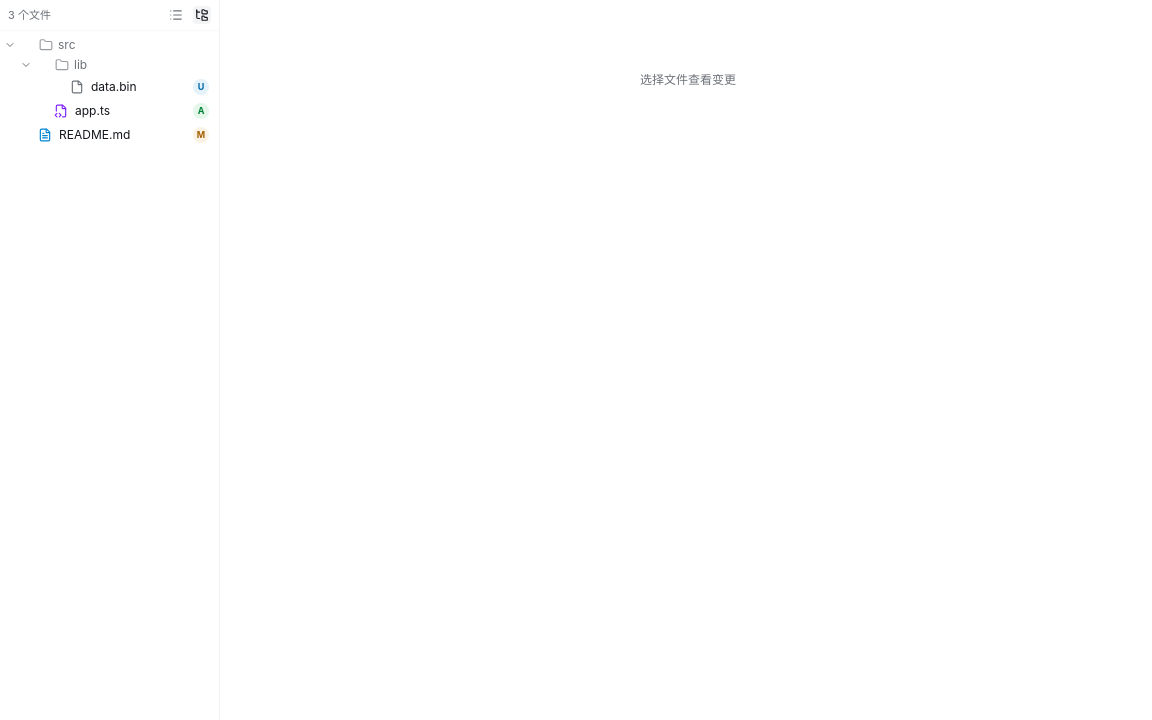
Test: DiffPanel › does not let an older diff response overwrite the latest selection
Click the text "README.md" at (95, 135), box [59,127,130,143]
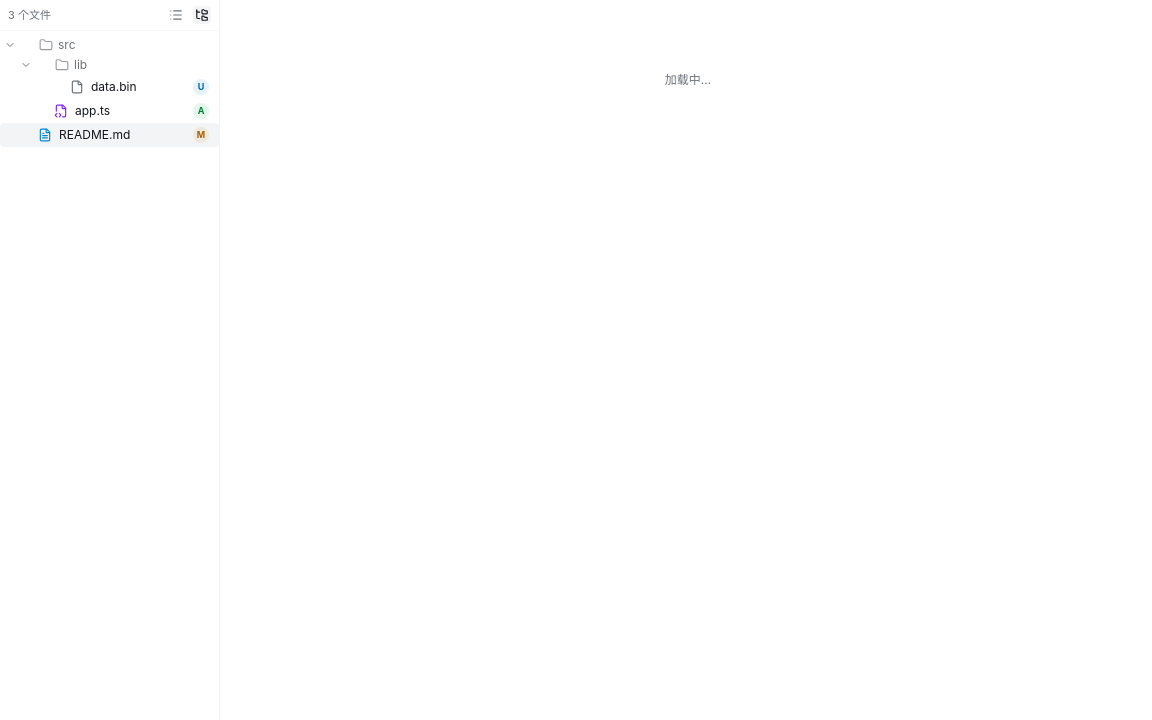
Click the text "app.ts" at (92, 111), box [75,103,110,119]
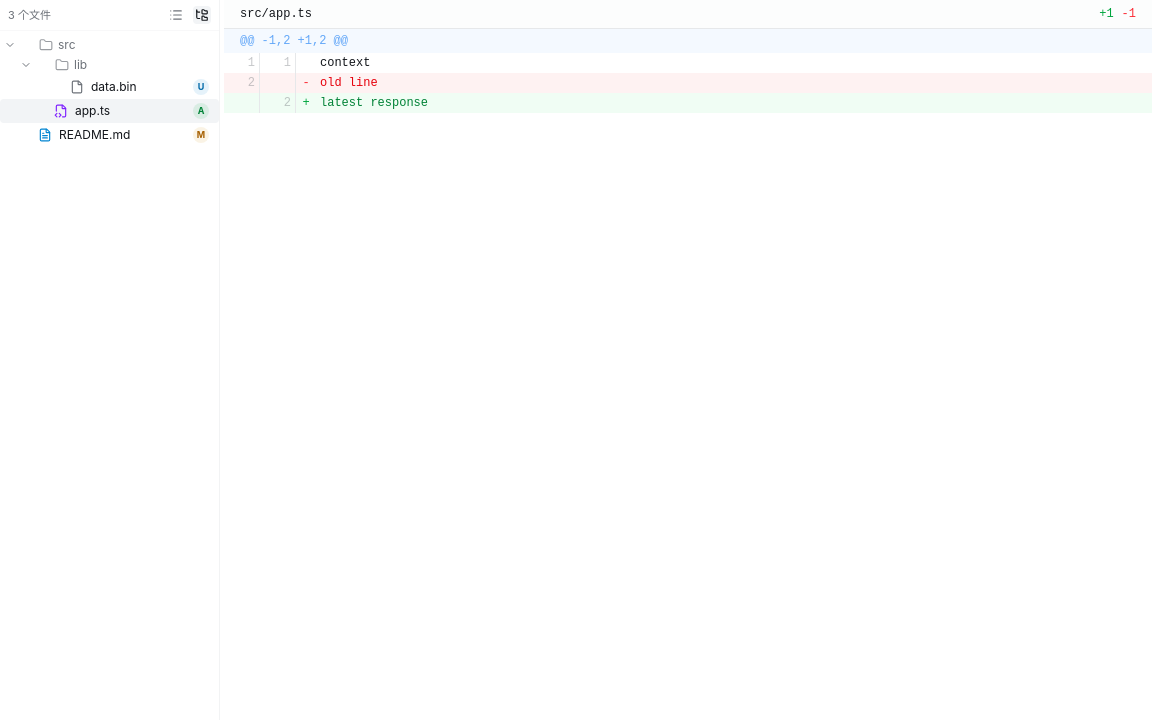
Now the text "latest response" is shown, box [320,96,428,110]
